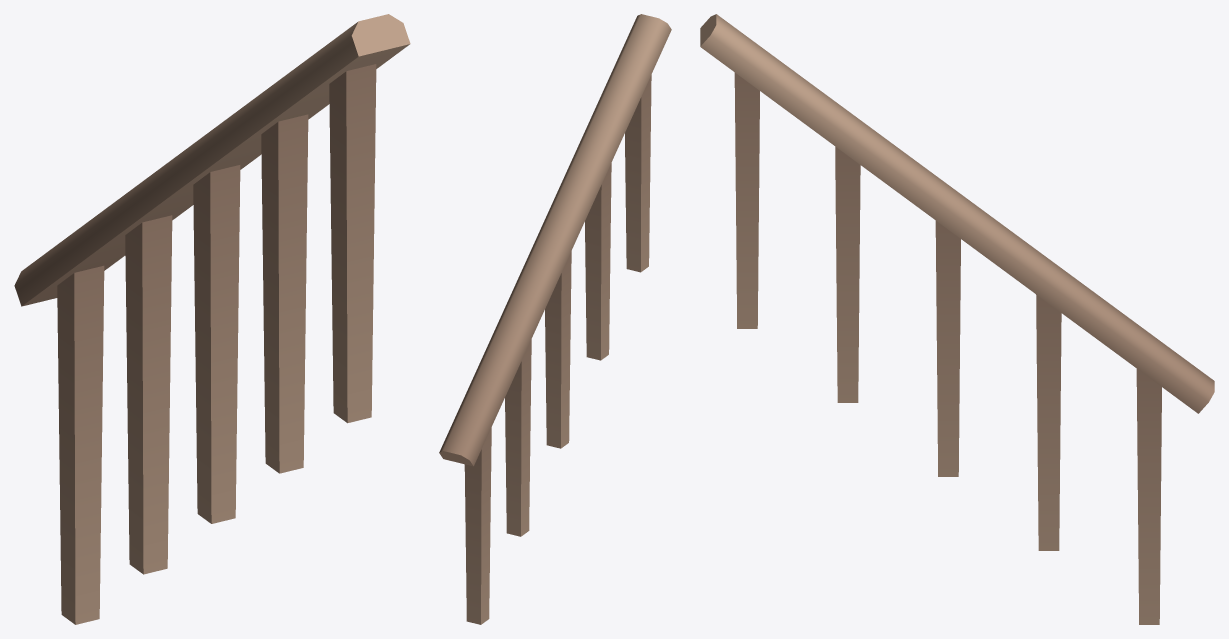
File: stairs-railing-basic-short.glb
3 views of the same model, side by side, from view 1: azimuth 30°, elevation 25°; view 2: azimuth 150°, elevation 25°; view 3: azimuth 270°, elevation 25° (orthographic). The views are drawn at different scales.
Visible parts, largest first — view 1: stairs-railing-basic-short; view 2: stairs-railing-basic-short; view 3: stairs-railing-basic-short.
Part boxes in pixels (x1,y1,x2,y2): stairs-railing-basic-short: (14, 14, 410, 624); stairs-railing-basic-short: (439, 14, 671, 624); stairs-railing-basic-short: (700, 14, 1214, 624).
Bounding box in the file's own units: 0.12 × 1.8 × 1.4.
